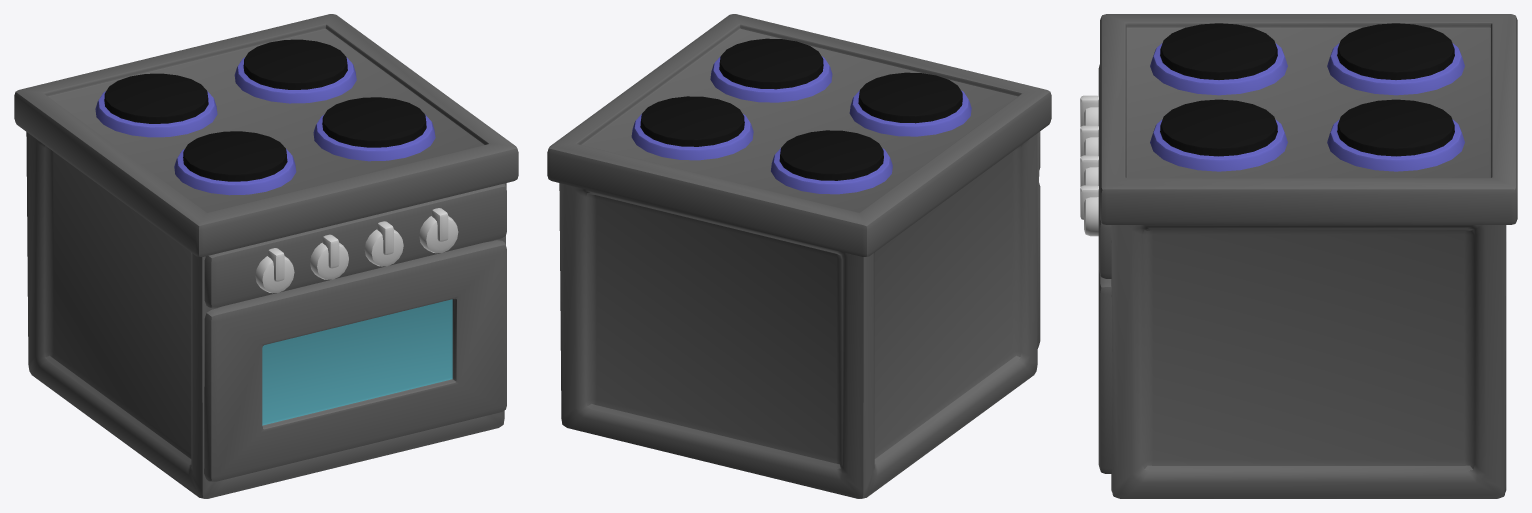
File: SM_stove.fbx
3 views of the same model, side by side, from view 1: azimuth 30°, elevation 25°; view 2: azimuth 150°, elevation 25°; view 3: azimuth 270°, elevation 25° (orthographic). The views are drawn at different scales.
Visible parts, largest first — view 1: Object027; view 2: Object027; view 3: Object027.
Part boxes in pixels (bbox=[...]): Object027: bbox=[14, 14, 518, 498]; Object027: bbox=[547, 14, 1051, 498]; Object027: bbox=[1080, 14, 1517, 498].
Size of the model in its own units: 44.06 by 38.55 by 46.13.
